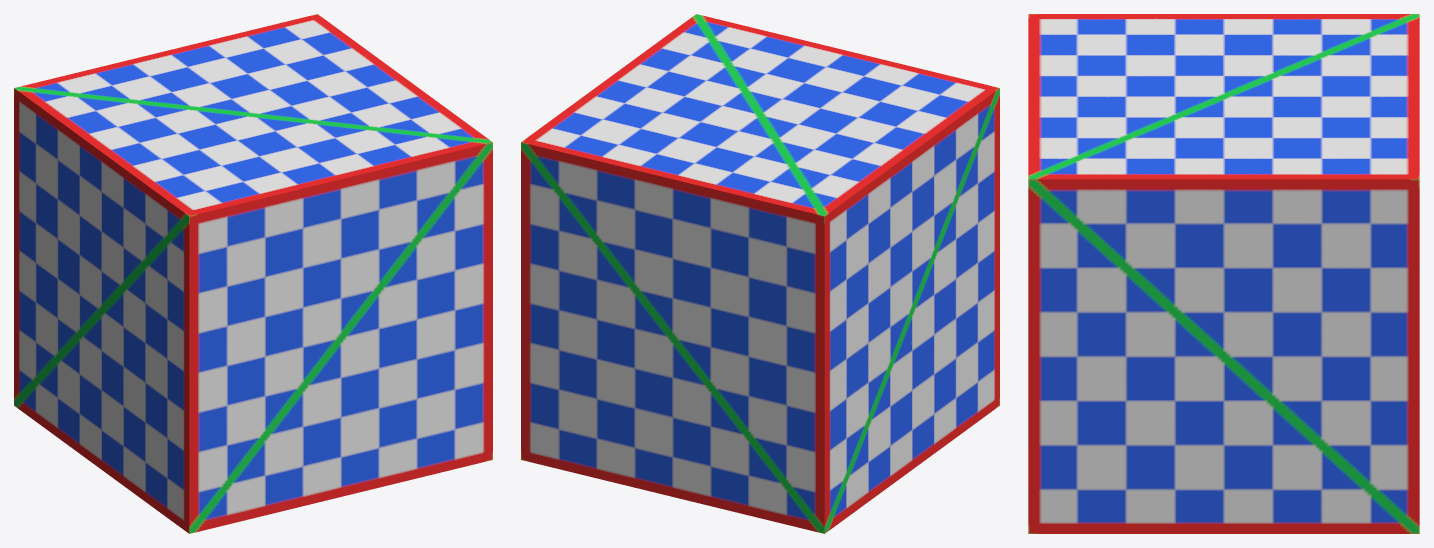
The picture shows the model from 3 angles, left to right: view 1: azimuth 30°, elevation 25°; view 2: azimuth 150°, elevation 25°; view 3: azimuth 270°, elevation 25°; orthographic projection. The views are drawn at different scales.
Visible parts, largest first — view 1: CubeToSphereNode; view 2: CubeToSphereNode; view 3: CubeToSphereNode.
Boxes of the visible parts, left/top/right/bottom form: CubeToSphereNode: left=14, top=14, right=492, bottom=533; CubeToSphereNode: left=521, top=14, right=999, bottom=533; CubeToSphereNode: left=1028, top=14, right=1419, bottom=533.
Bounding box in the file's own units: 2 × 2 × 2.
1 material, 1 textured.
